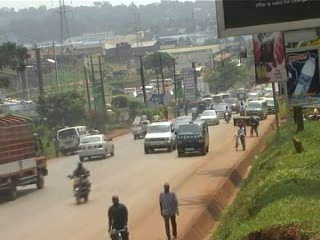Car: (75, 130, 117, 161), (142, 120, 179, 154), (199, 108, 222, 127), (189, 98, 211, 117), (224, 97, 241, 113), (212, 102, 227, 118)
Motorcycle: (66, 164, 91, 204), (222, 106, 230, 125), (190, 104, 199, 120)
